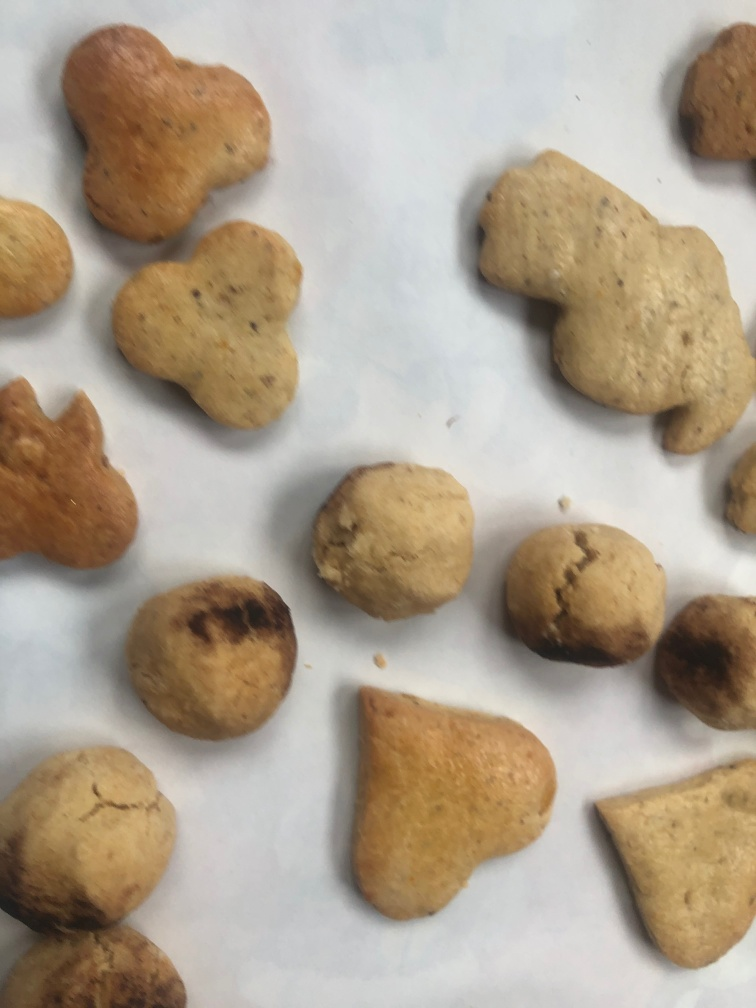flake: (55, 21, 276, 249), (110, 218, 310, 436), (4, 370, 144, 579)
heart: (341, 677, 558, 933), (582, 747, 756, 978)
santa claus: (465, 142, 756, 464)
snowball: (3, 740, 182, 925), (489, 505, 671, 685), (121, 567, 298, 751), (300, 454, 479, 628), (654, 579, 756, 747), (13, 921, 194, 1007)
